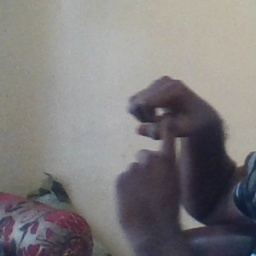Q: (111, 76, 209, 208)
